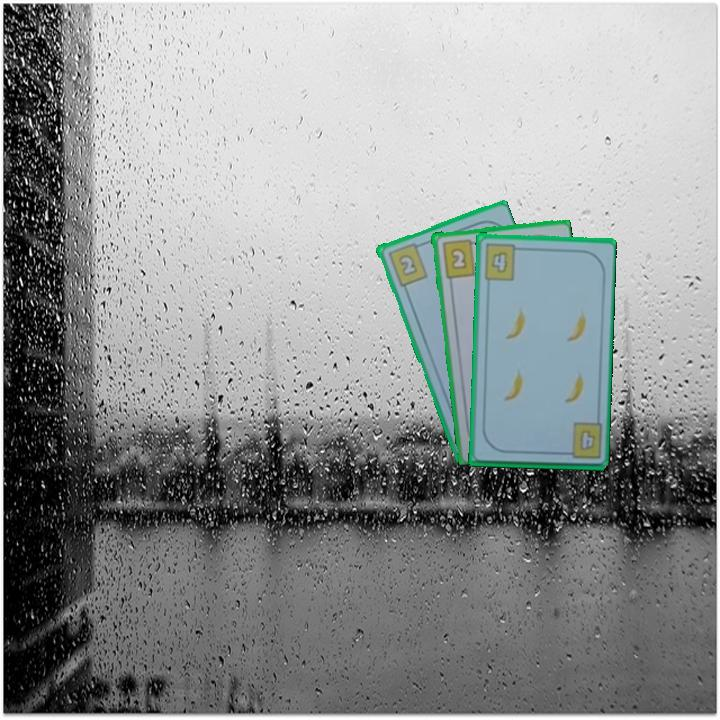2b: (384, 239, 430, 289), (438, 235, 480, 280)
4b: (559, 419, 604, 462), (481, 239, 524, 282)
